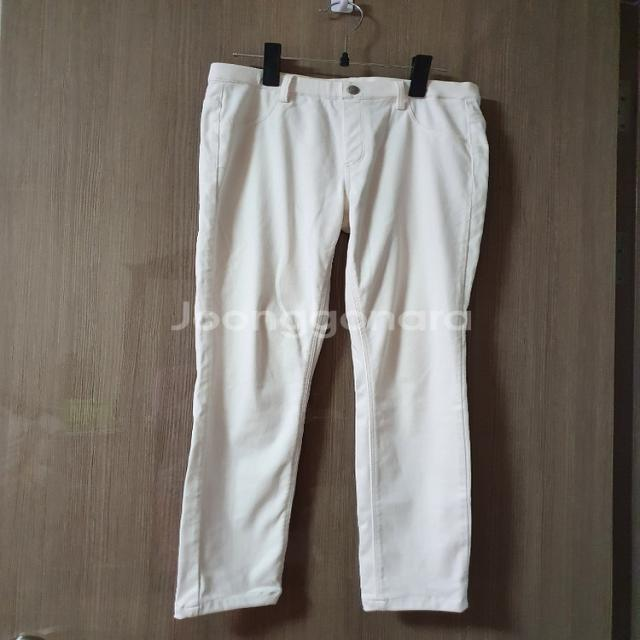long-pants: (172, 56, 492, 621)
